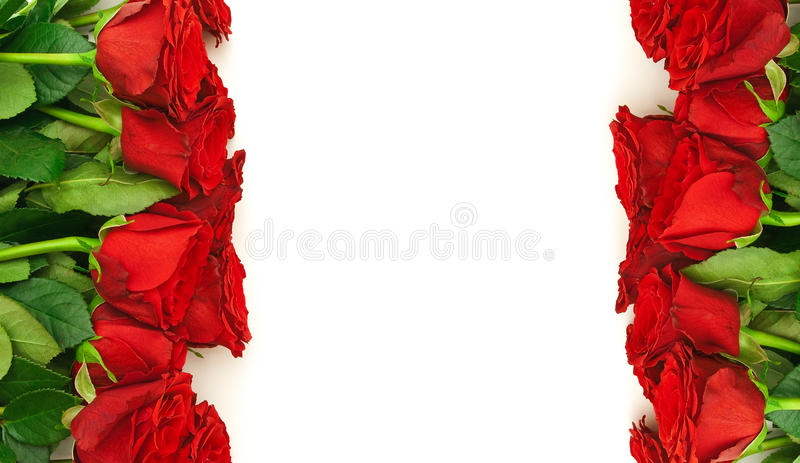RedRose: (650, 123, 776, 244), (612, 362, 765, 458), (52, 377, 219, 463), (611, 0, 794, 76), (73, 6, 247, 82), (81, 232, 206, 335), (619, 272, 740, 372), (671, 67, 781, 158), (92, 110, 237, 178), (209, 229, 294, 340), (594, 209, 700, 294), (615, 106, 690, 217), (176, 152, 257, 250), (53, 341, 203, 360)
